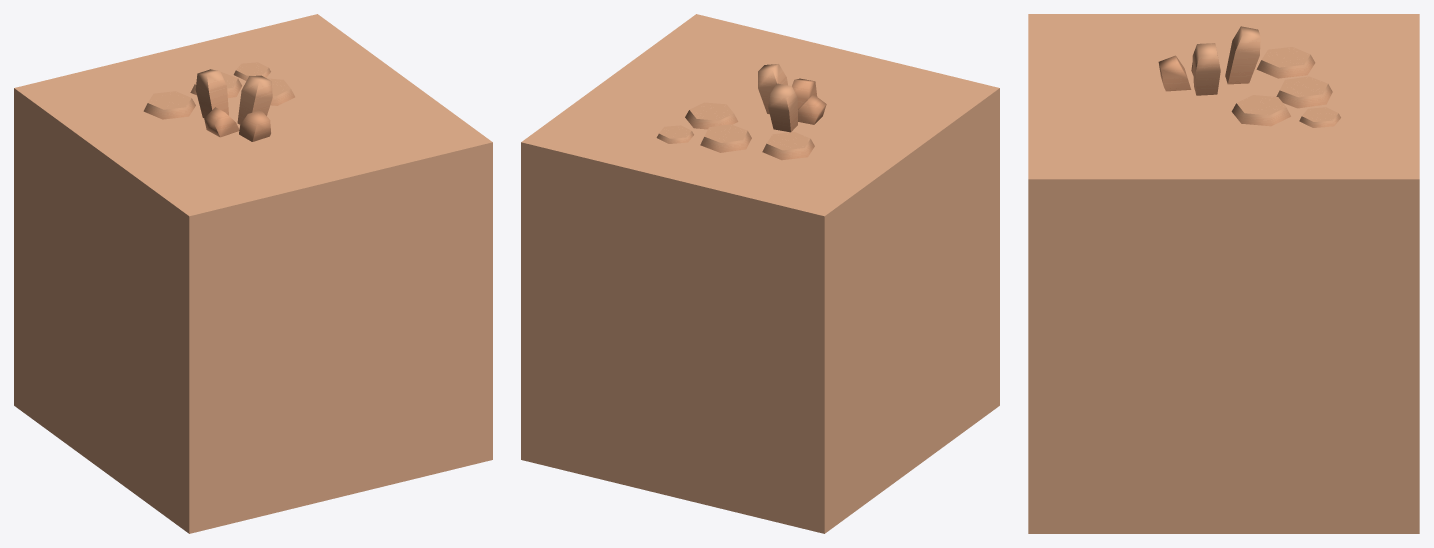
File: patch-sand-foliage.011.glb
The picture shows the model from 3 angles, left to right: view 1: azimuth 30°, elevation 25°; view 2: azimuth 150°, elevation 25°; view 3: azimuth 270°, elevation 25°; orthographic projection. The views are drawn at different scales.
Parts seen in each view (by area): view 1: Cube.005; view 2: Cube.005; view 3: Cube.005.
Part boxes in pixels (x1,y1,x2,y2): Cube.005: [14, 14, 492, 533]; Cube.005: [521, 14, 999, 533]; Cube.005: [1028, 14, 1419, 533].
Bounding box in the file's own units: 0.574 × 0.6536 × 0.574.
2 materials, 2 textured.
